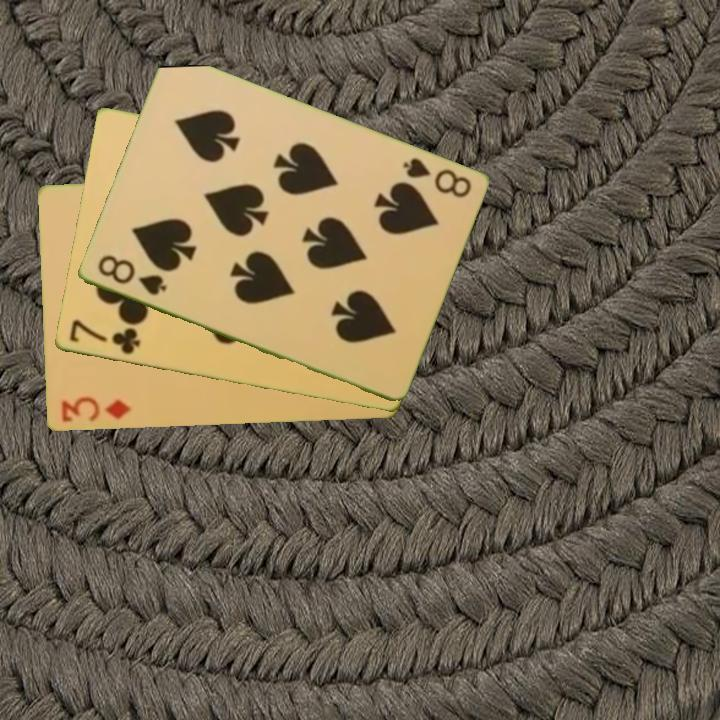3d: (58, 393, 133, 425)
7c: (65, 316, 143, 358)
8s: (93, 251, 169, 299), (398, 154, 474, 201)
